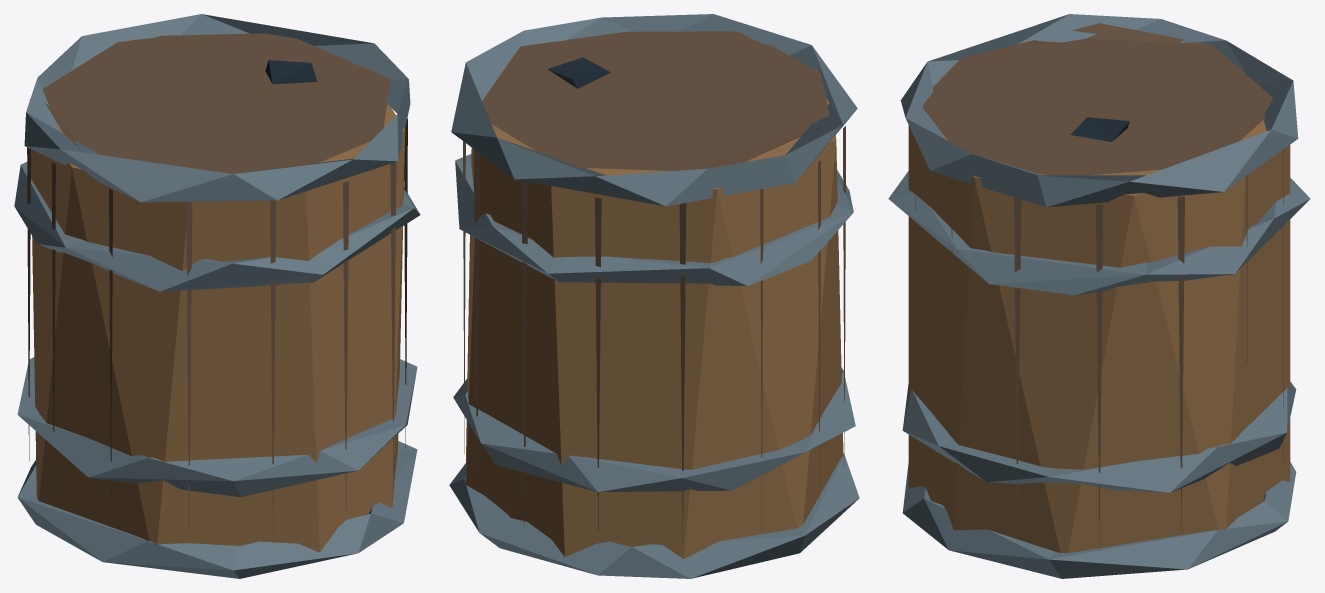
Rendered from props-barrel-wood.lod2.glb.
The picture shows the model from 3 angles, left to right: view 1: azimuth 30°, elevation 25°; view 2: azimuth 150°, elevation 25°; view 3: azimuth 270°, elevation 25°; orthographic projection.
Visible parts, largest first — view 1: props-barrel-wood__body; view 2: props-barrel-wood__body; view 3: props-barrel-wood__body.
Part boxes in pixels (<box>): props-barrel-wood__body: <box>14,14,420,578</box>; props-barrel-wood__body: <box>449,14,859,578</box>; props-barrel-wood__body: <box>888,14,1310,578</box>.
Bounding box in the file's own units: 0.7961 × 0.8962 × 0.8348.
